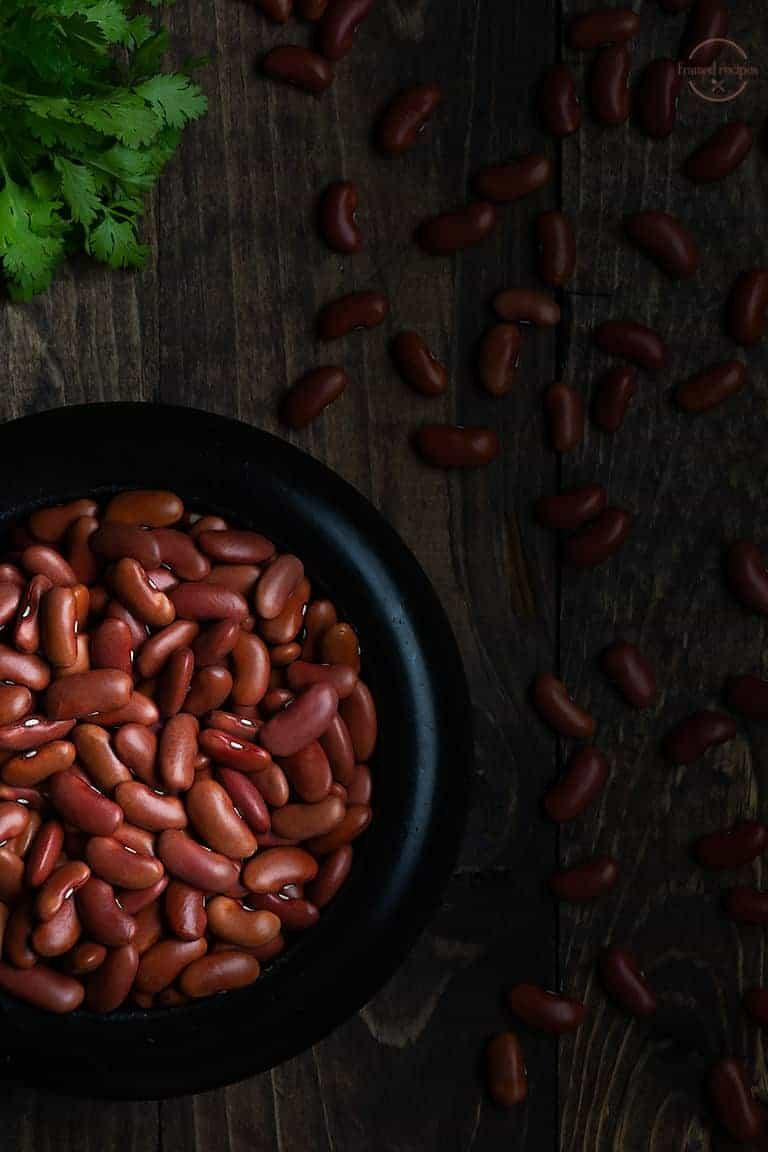RajmaCurry: (0, 477, 378, 1022)
